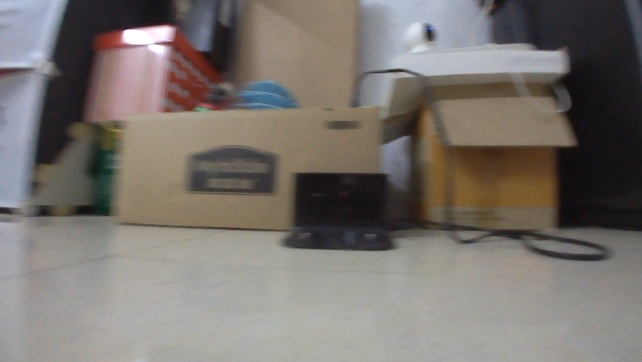charger: (279, 170, 393, 251)
wire: (350, 65, 611, 263)
